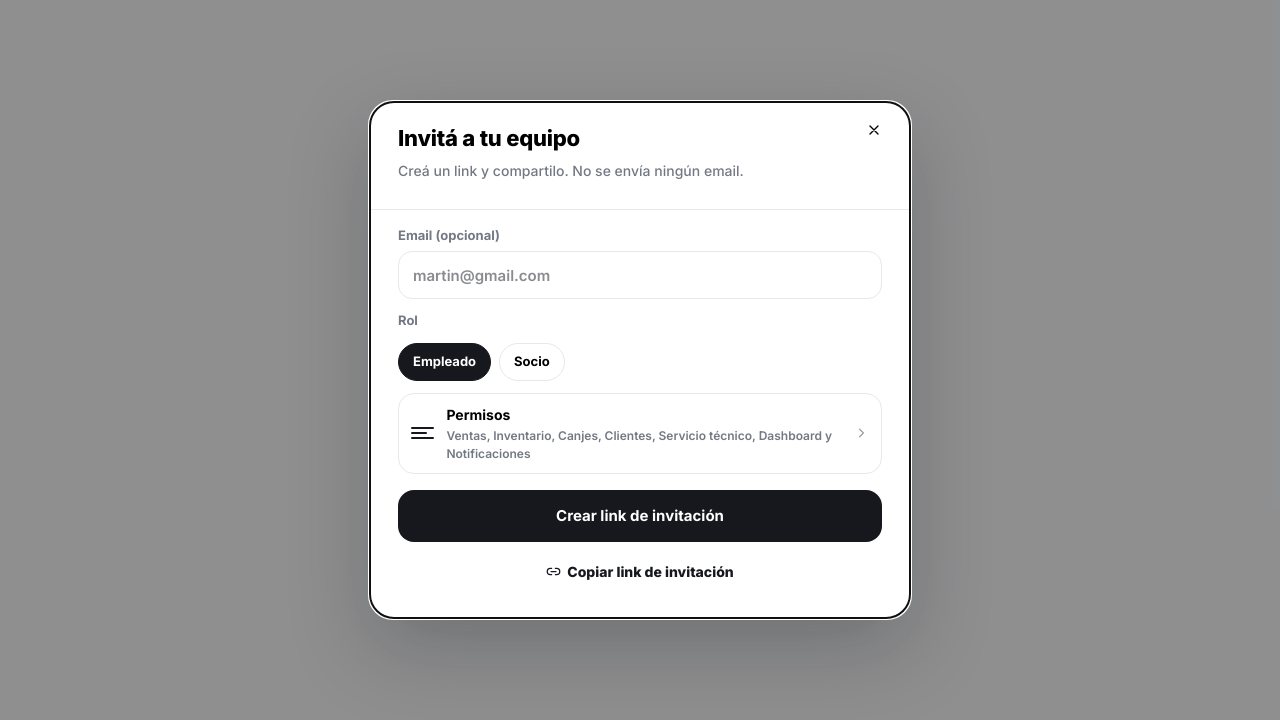
Test case: link invitations › lets the owner choose Socio and leaves errors in the sheet
The width and height of the screenshot is (1280, 720).
Click the button "Socio": x=532, y=362 [499,343,565,381]
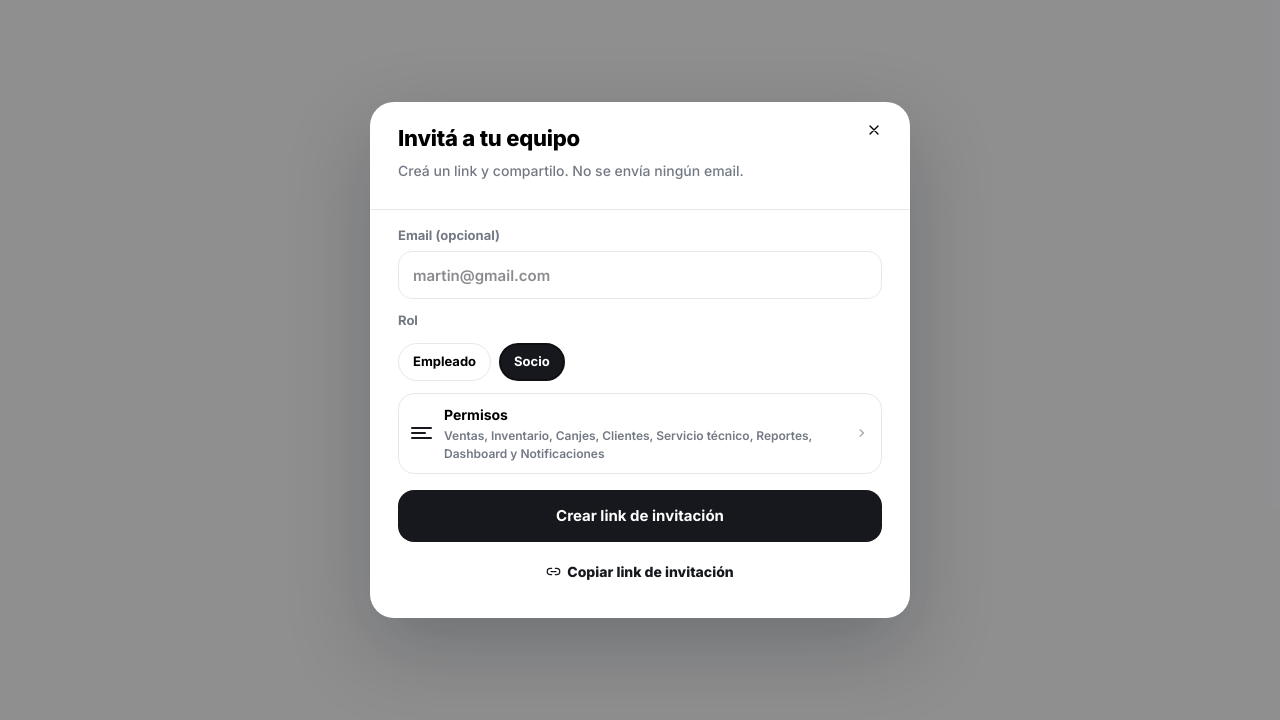
Click the button with test id "invite-send": x=640, y=516 [398,490,882,542]
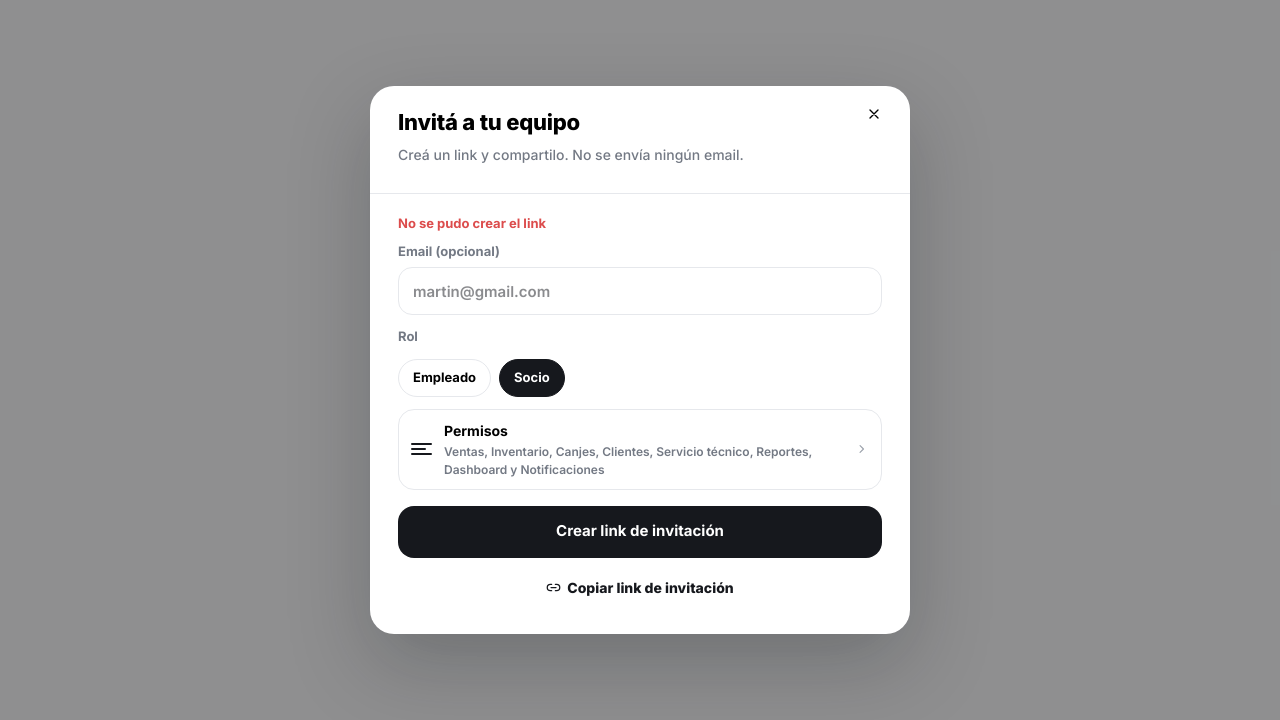
Result: the text "No se pudo crear el link" is shown at [398,215,546,231]
